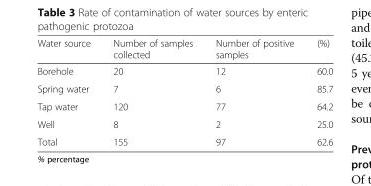table: (36, 37, 332, 147)
table column: (101, 37, 203, 147), (203, 37, 304, 147), (36, 37, 101, 147), (304, 37, 332, 147)
table column header: (36, 37, 332, 62)
table row: (36, 37, 332, 62), (36, 79, 332, 97), (36, 114, 332, 132), (36, 62, 332, 79), (36, 97, 332, 114), (36, 132, 332, 147)
